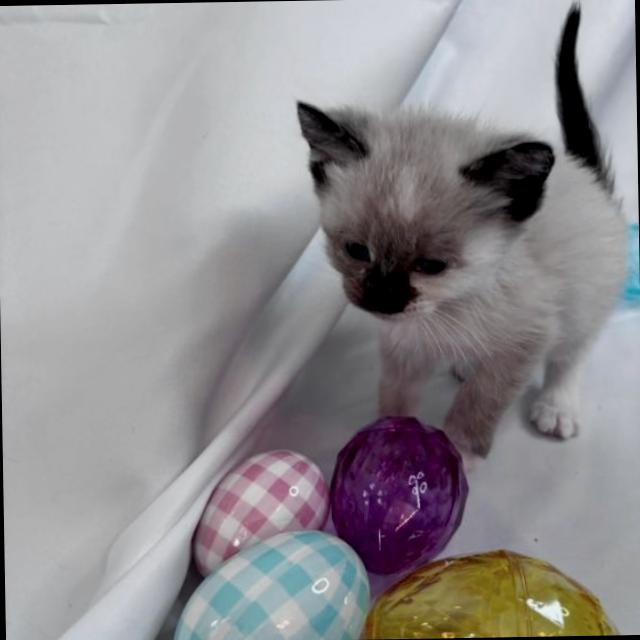siamese_cat: (282, 90, 566, 330)
